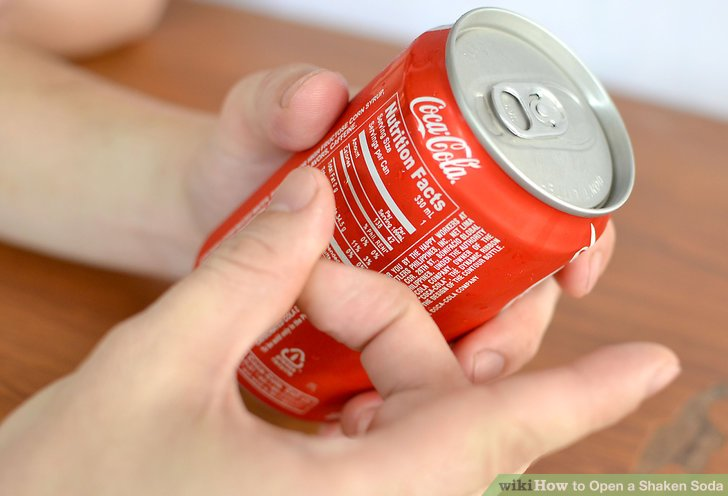can: (192, 10, 640, 443)
